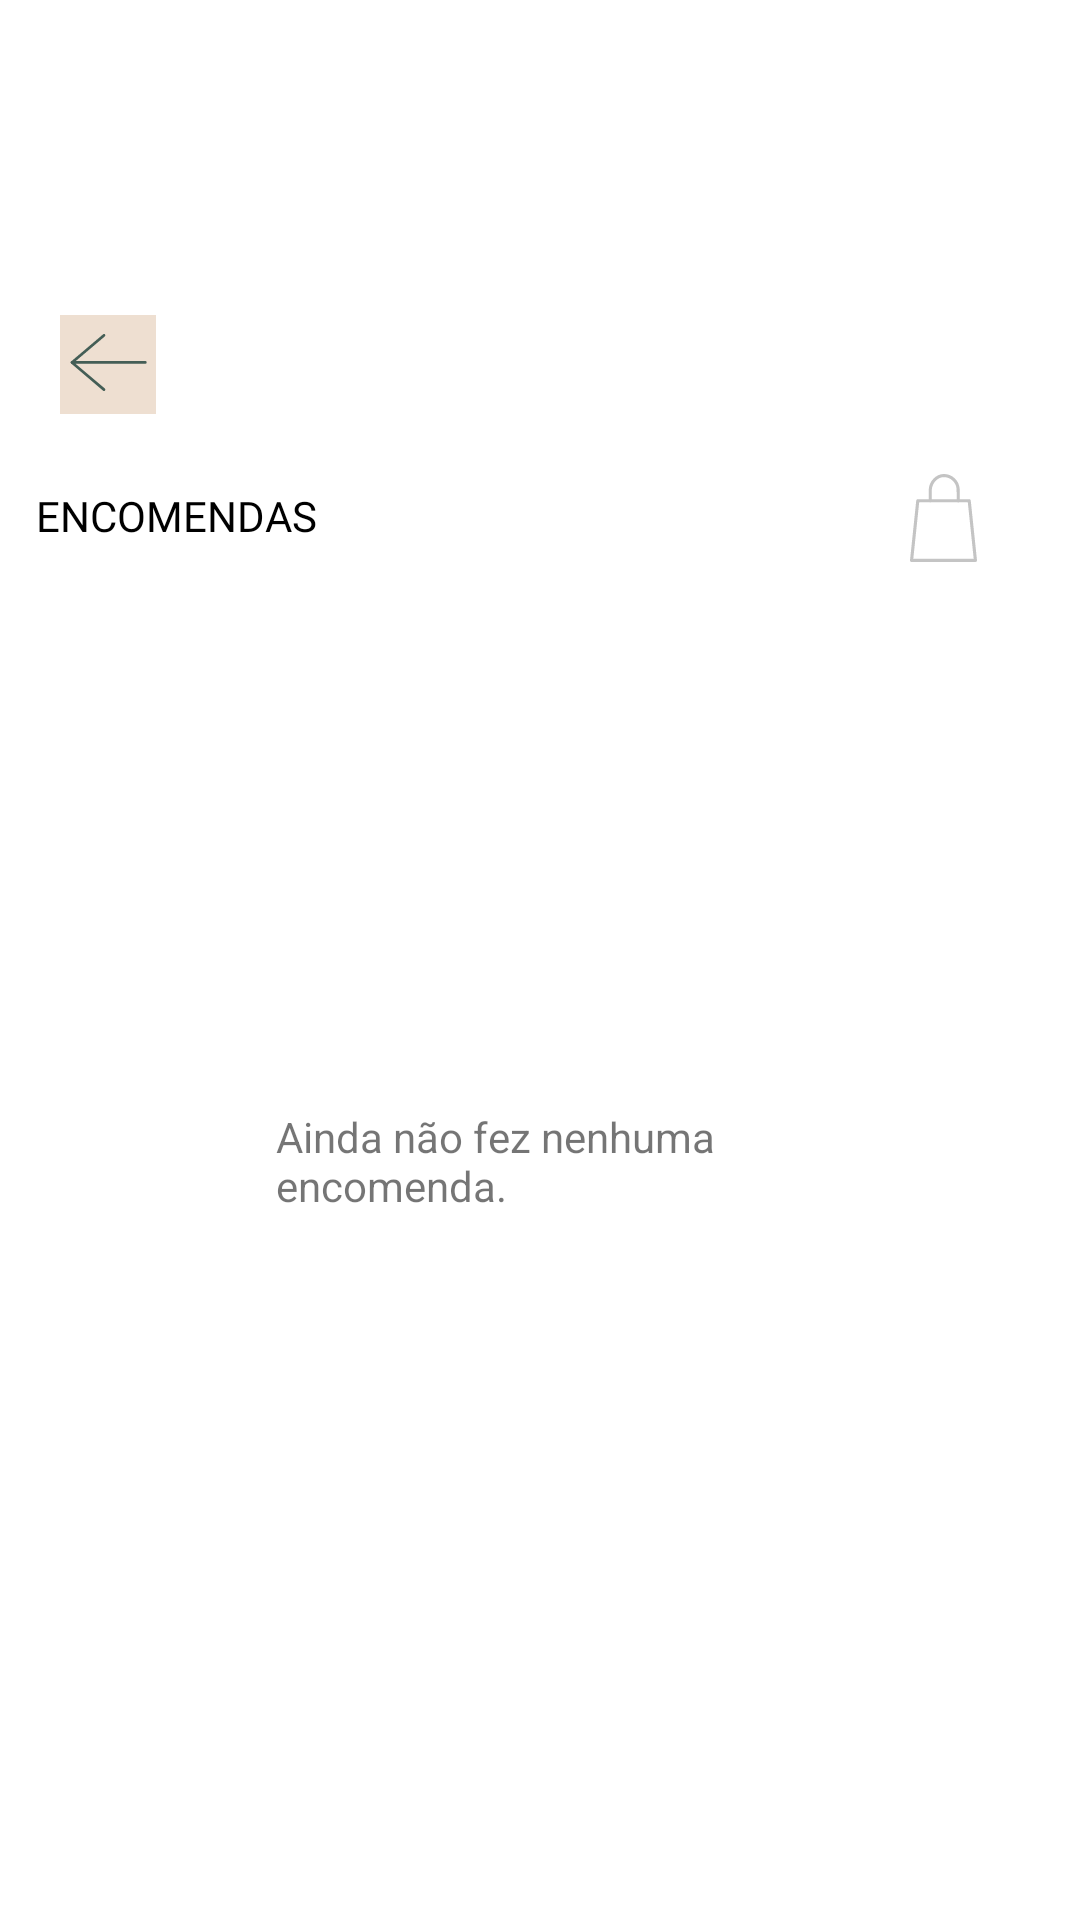

Icons on this 1080px x 1920px Android screen, each with its box as detection(x1, y1, x2, y2):
carrinho: detection(910, 474, 977, 562)
seta: detection(60, 315, 156, 414)
